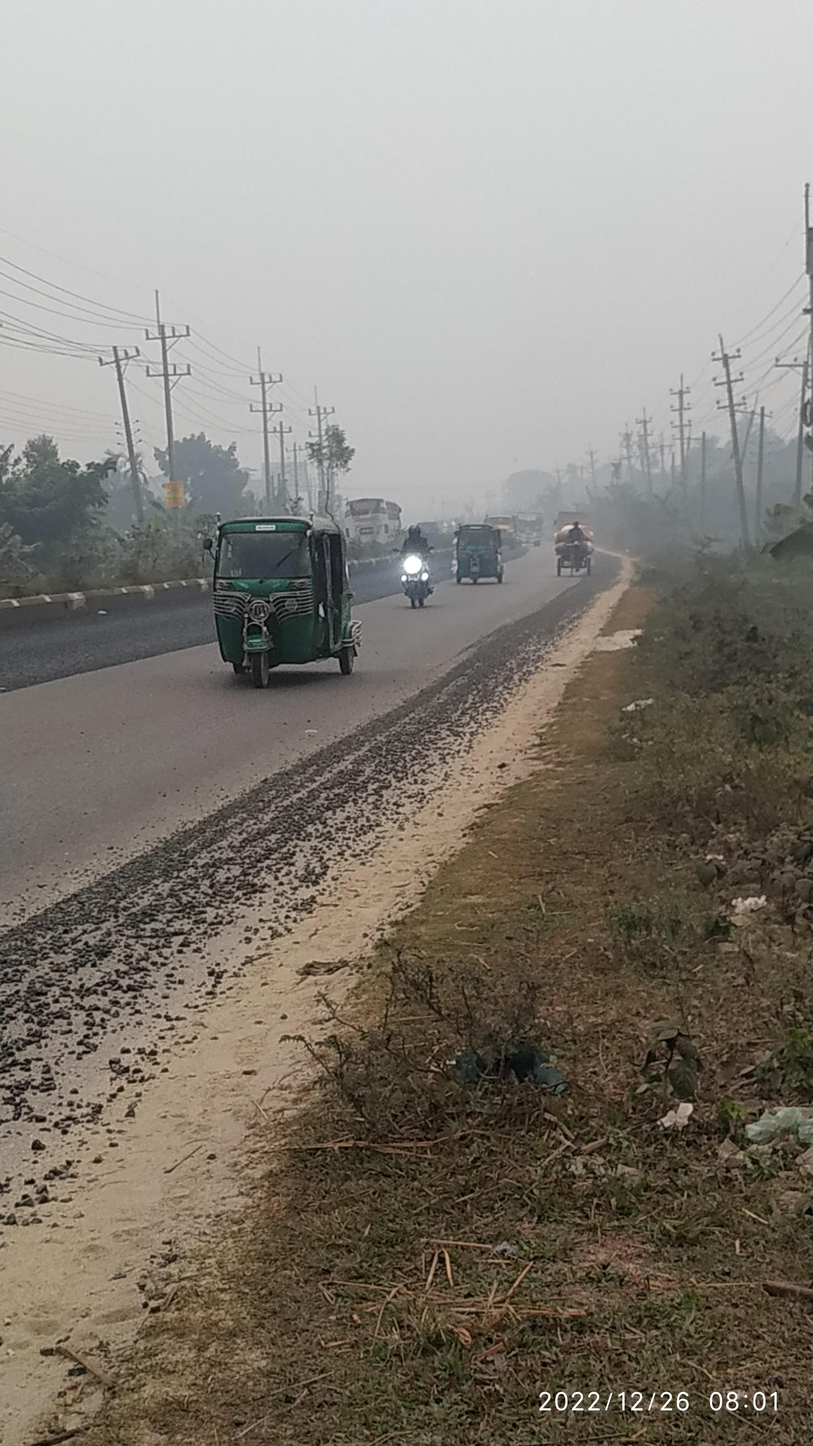Bike: (391, 518, 441, 624)
Bus: (343, 477, 414, 563)
